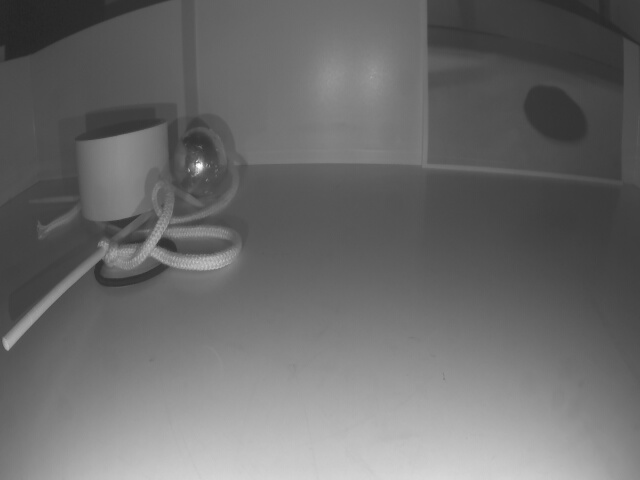Live: (174, 124, 227, 191)
